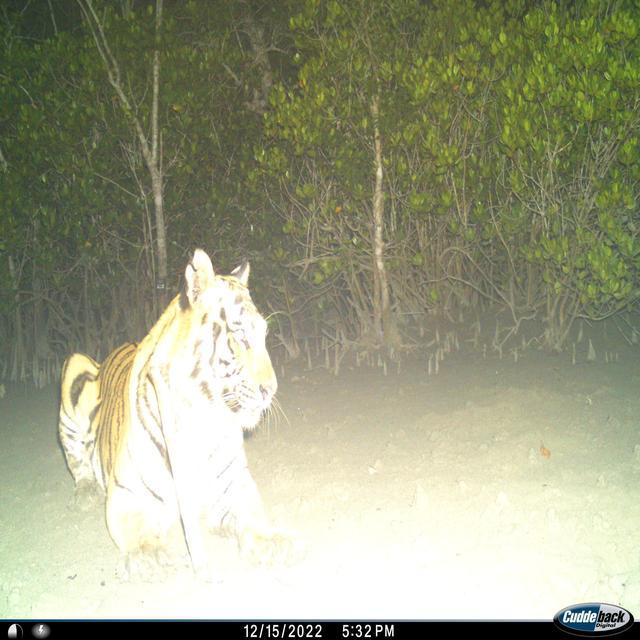tiger: (56, 247, 294, 583)
